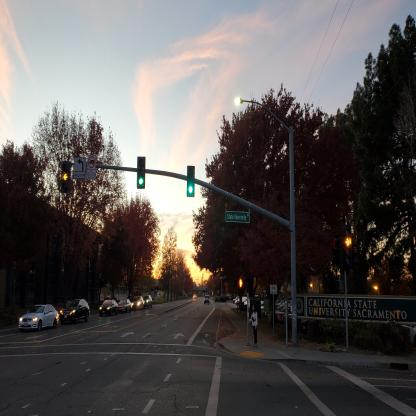green: (137, 157, 145, 188), (187, 166, 194, 197)
left-yellow: (62, 162, 69, 190)
